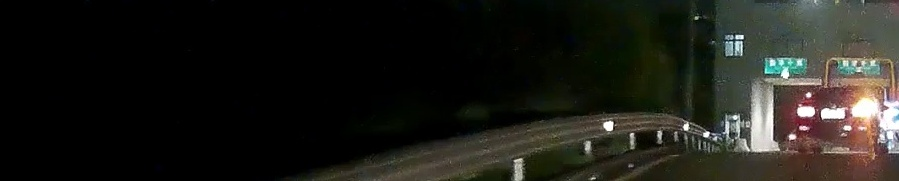L_light: (797, 99, 816, 118)
R_light: (852, 97, 874, 116)
T_light: (833, 86, 850, 91)
night-right: (795, 85, 880, 155)
